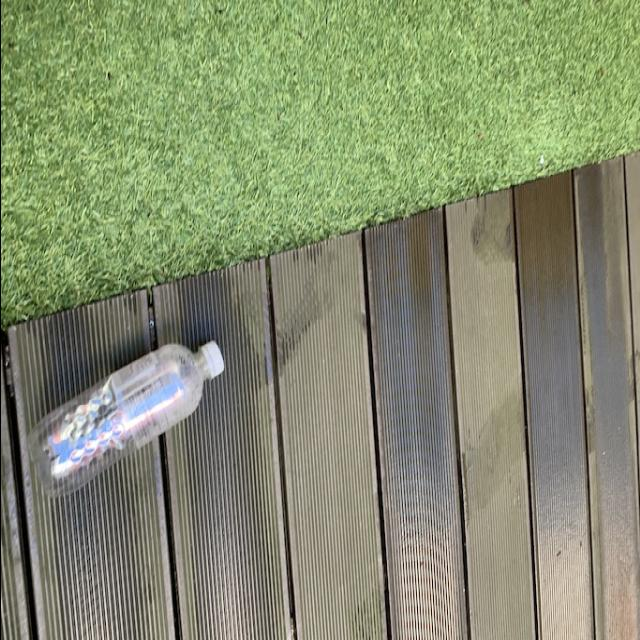litter: (21, 342, 222, 507)
